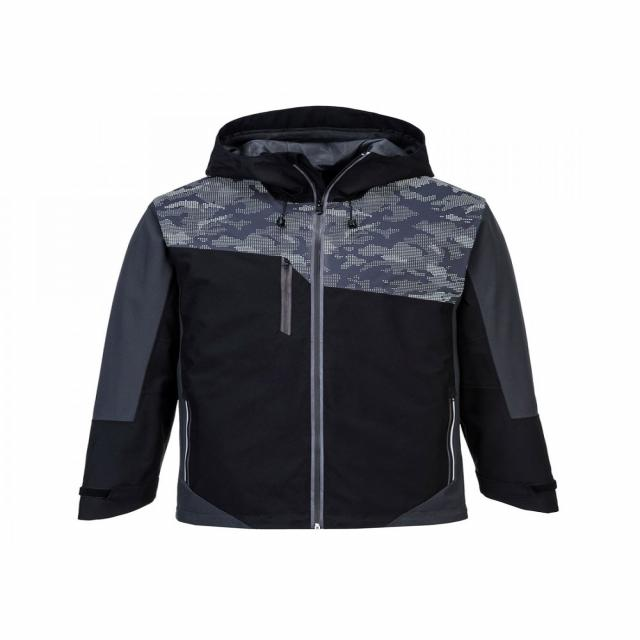Reflective-Jacket: (58, 104, 594, 534)
